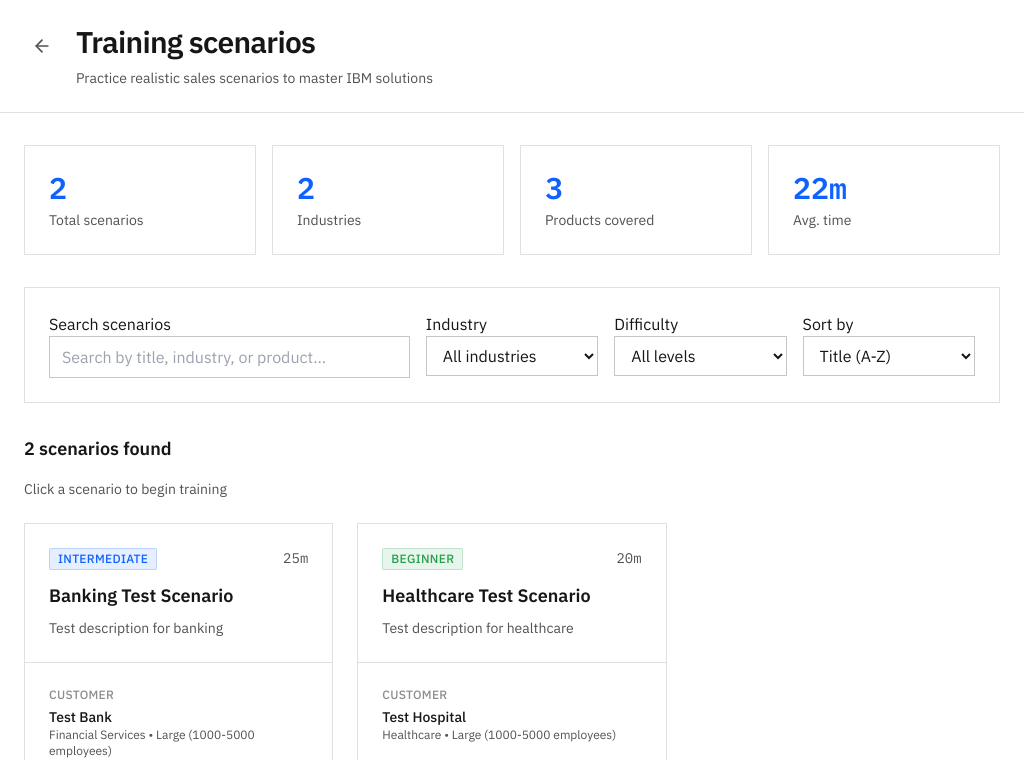
Scenario: ScenarioLibraryPage › Search Functionality › should show "no scenarios found" when search returns no results
Type "nonexistent" into the field with placeholder "Search by title, industry, or product...". click: (229, 357)
box: [49, 336, 410, 378]
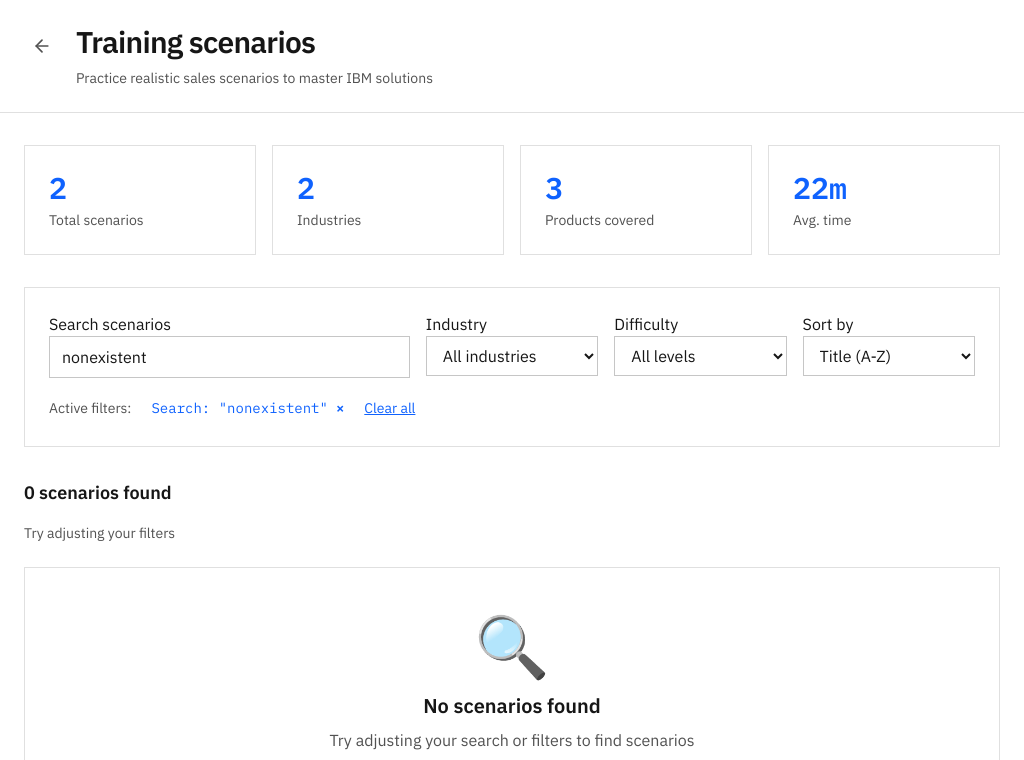
Expected: the heading "No scenarios found" is shown, [423, 692, 601, 719]
